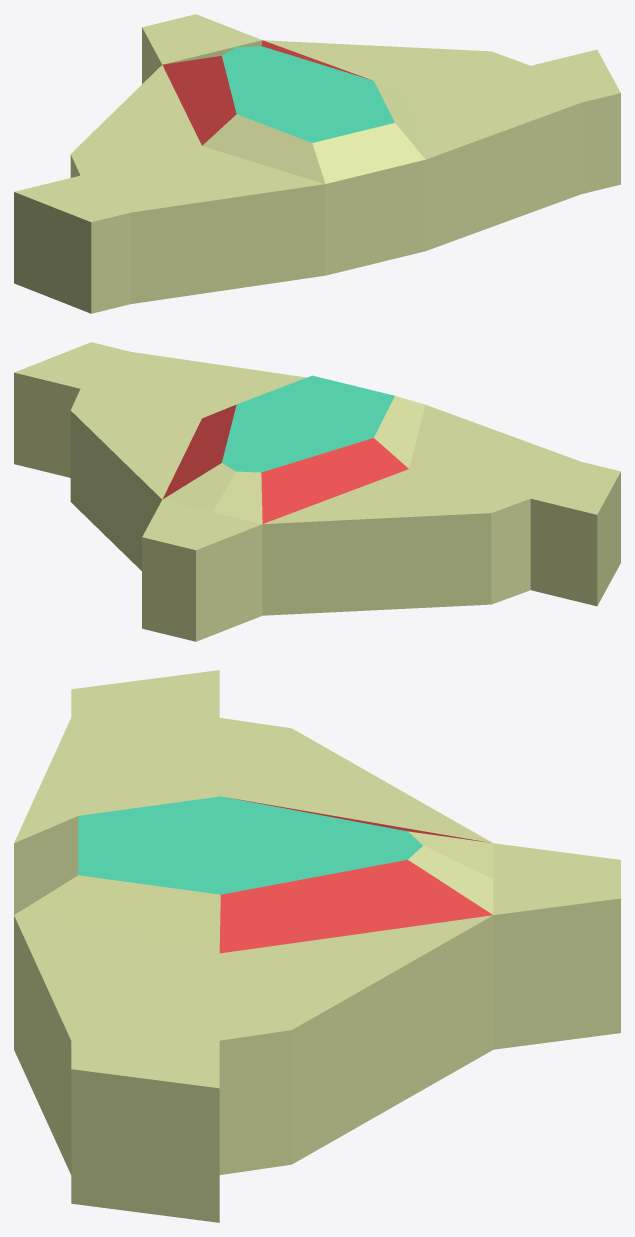
The model's file is ShipTest.fbx.
3 renders of one model, top to bottom at view 1: azimuth 30°, elevation 25°; view 2: azimuth 150°, elevation 25°; view 3: azimuth 270°, elevation 25°, orthographic. The views are drawn at different scales.
Visible parts, largest first — view 1: Cube; view 2: Cube; view 3: Cube.
Part boxes in pixels (x1,y1,x2,y2): Cube: [14, 14, 620, 313]; Cube: [14, 342, 620, 641]; Cube: [14, 670, 620, 1222].
Size of the model in its own units: 667 by 125 by 409.
